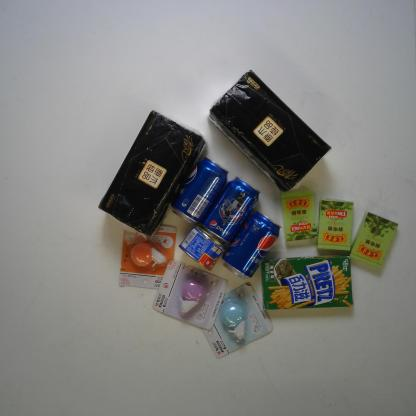Candy: (349, 211, 398, 266), (316, 198, 354, 253), (279, 188, 317, 242)
Canned Food: (176, 226, 224, 273)
Dessert: (260, 252, 355, 311)
Drink: (222, 208, 281, 281), (172, 156, 229, 226), (203, 177, 262, 243)
Stationery: (200, 282, 272, 361), (152, 259, 229, 330), (118, 224, 178, 292)
Tissue: (210, 69, 331, 192), (97, 109, 209, 238)
